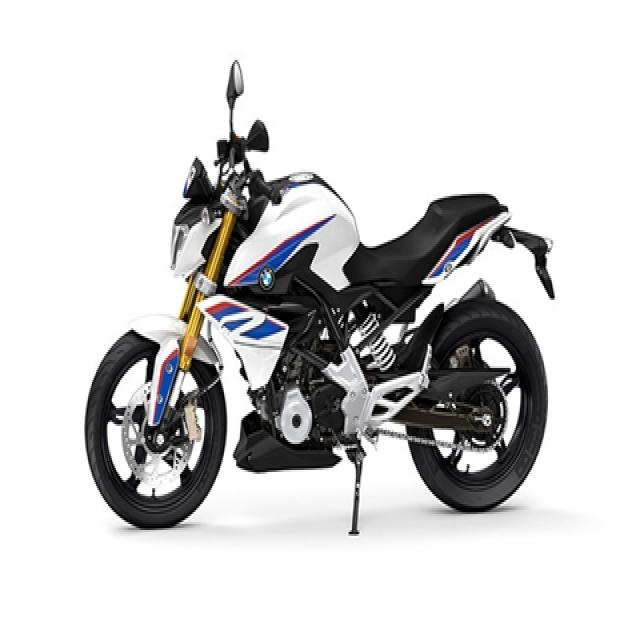bike: (84, 59, 555, 537)
